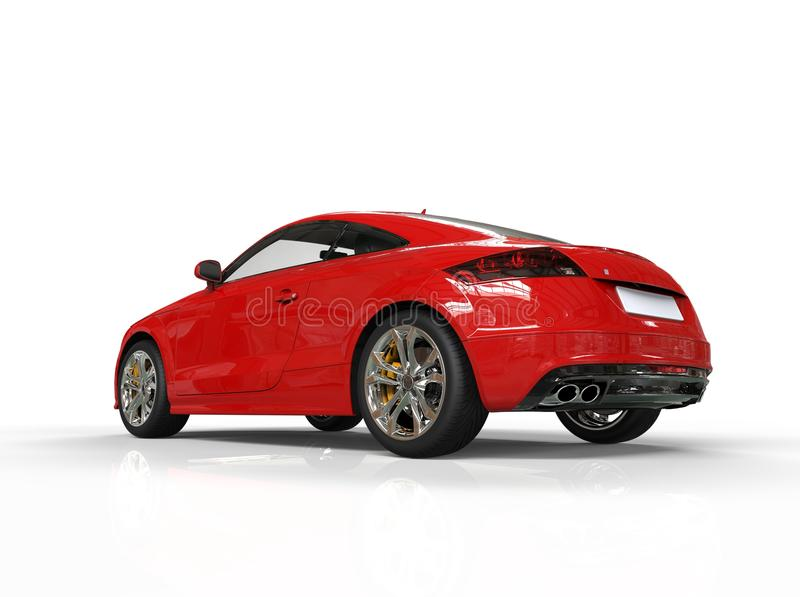car: (116, 211, 711, 460)
